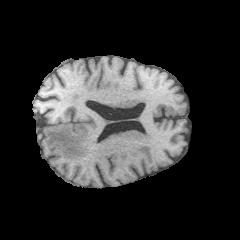glioma: (45, 125, 90, 159)
